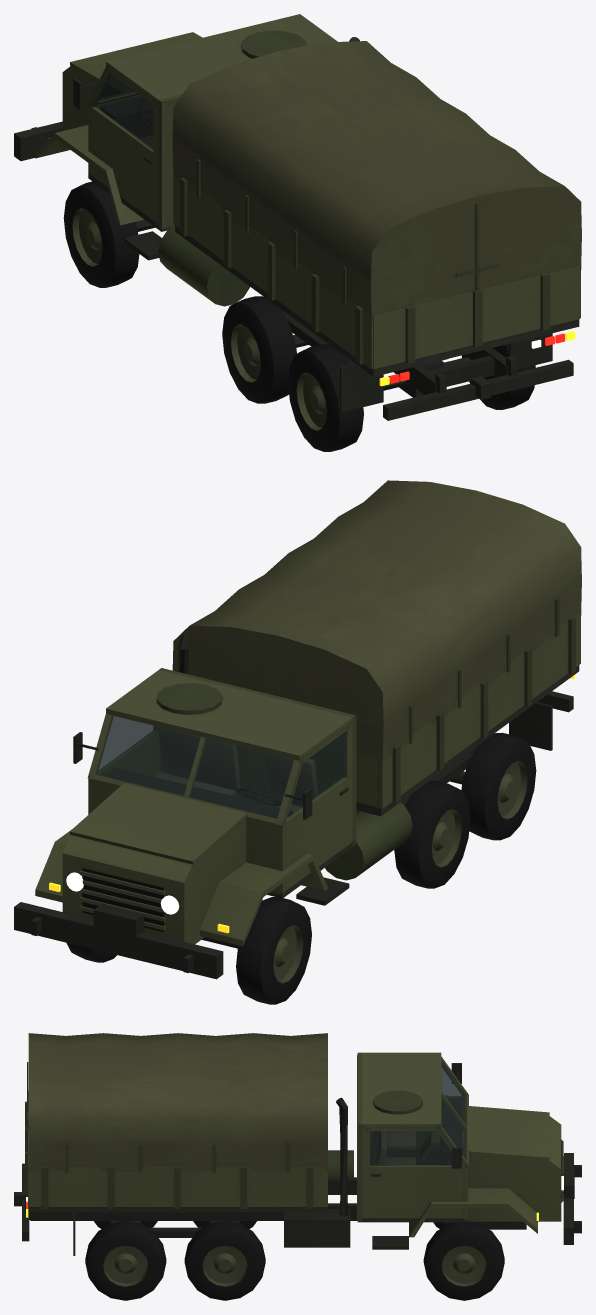
Rendered from army_truck.glb.
3 views of the same model, one above another, from view 1: azimuth 30°, elevation 25°; view 2: azimuth 150°, elevation 25°; view 3: azimuth 270°, elevation 25° (orthographic). The views are drawn at different scales.
Parts seen in each view (by area): view 1: lod0, door_fl, wheel_fl, wheel_rl, bumper_r, hood, bumper_f, wheel_rr; view 2: lod0, window_front, hood, bumper_f, door_fl, wheel_fl, wheel_rl, door_fr; view 3: lod0, door_fr, wheel_rr, wheel_fr, hood, window_front, bumper_f, door_fl, bumper_r.
Part boxes in pixels (box(x1,y1,x2,y2)): lod0: box(35, 14, 581, 412); door_fl: box(89, 66, 155, 222); wheel_fl: box(63, 181, 139, 287); wheel_rl: box(288, 344, 363, 451); bumper_r: box(383, 355, 573, 420); hood: box(69, 32, 202, 92); bumper_f: box(14, 121, 62, 161); wheel_rr: box(461, 344, 535, 409); lod0: box(35, 480, 581, 948); window_front: box(96, 715, 293, 818); hood: box(69, 783, 247, 864); bumper_f: box(14, 902, 223, 979); door_fl: box(283, 724, 350, 891); wheel_fl: box(236, 897, 311, 1004); wheel_rl: box(461, 732, 536, 840); door_fr: box(97, 713, 159, 776); lod0: box(25, 1033, 563, 1300); door_fr: box(365, 1127, 465, 1218); wheel_rr: box(85, 1221, 166, 1300); wheel_fr: box(423, 1221, 504, 1300); hood: box(467, 1106, 549, 1160); window_front: box(441, 1062, 465, 1158); bumper_f: box(563, 1153, 581, 1244); door_fl: box(370, 1066, 463, 1147); bumper_r: box(14, 1163, 30, 1241).
Size of what is drawn, in the model's own units: 2.75 by 3.13 by 7.72.
Materials: 9 (2 with a texture image).
